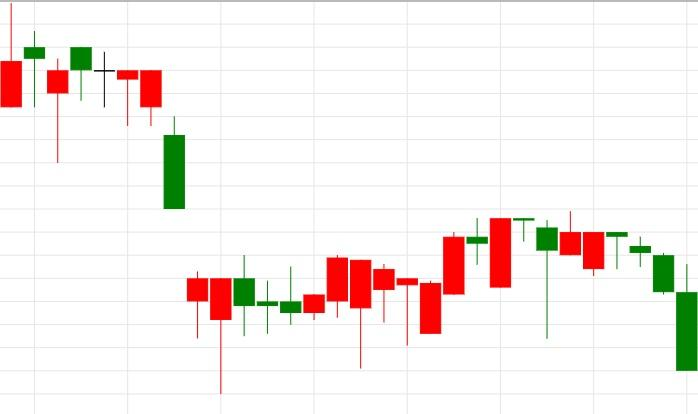hammer_rise: (71, 46, 232, 394)
